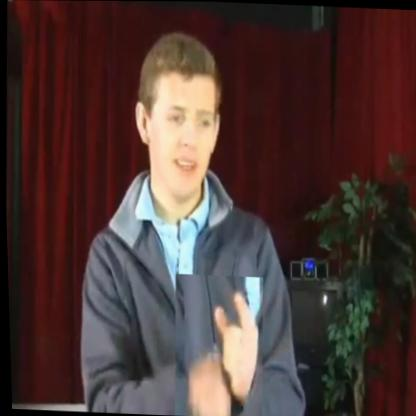NiceToMeetYou: (168, 273, 264, 416)
